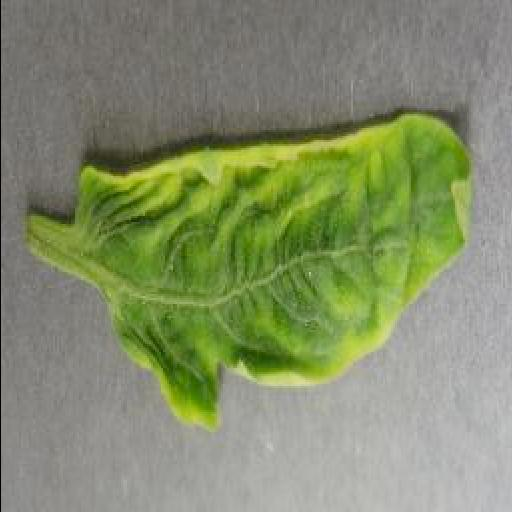disease_tomato: (74, 114, 480, 432)
